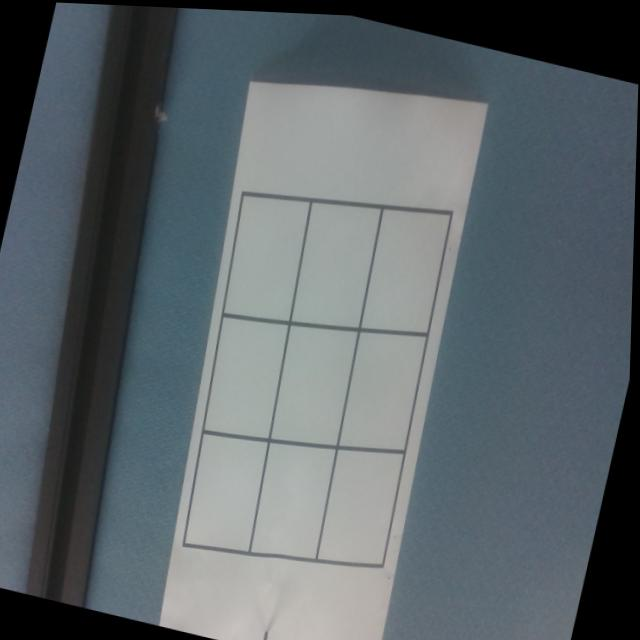null: (217, 180, 317, 330), (286, 186, 386, 335), (358, 193, 456, 341), (266, 310, 365, 454), (199, 303, 296, 444), (337, 316, 431, 459), (318, 433, 409, 572), (249, 431, 343, 565), (181, 422, 274, 557)
table: (171, 163, 458, 590)
